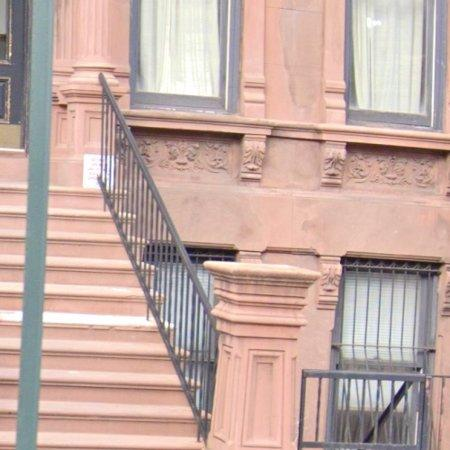stairs: (38, 187, 203, 450), (0, 177, 24, 450)
